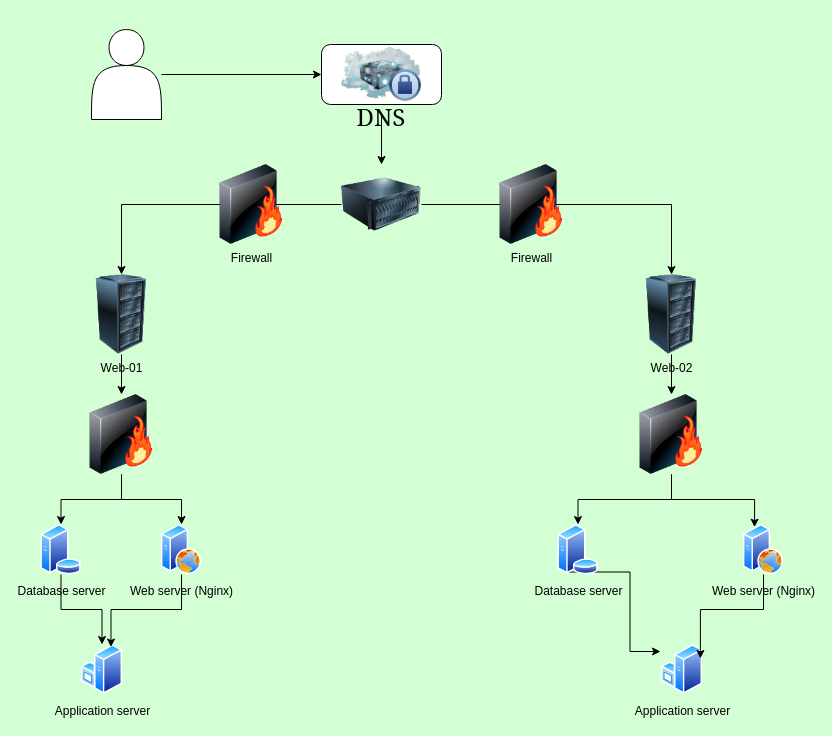
Some shapes in this 832 by 736 pixel diagram are drawn without their labels. The box of each missing label's shape, as (x1, y1, x2, y2) in pixels:
LOAD BALACER: (341, 164, 421, 244)
USER: (90, 28, 162, 120)
